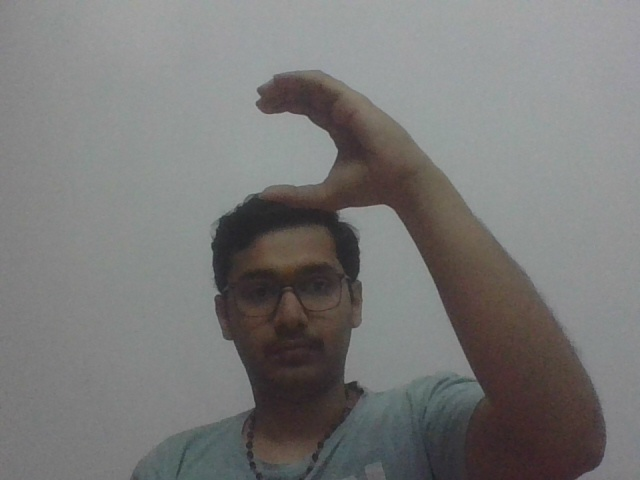C: (255, 65, 448, 212)
